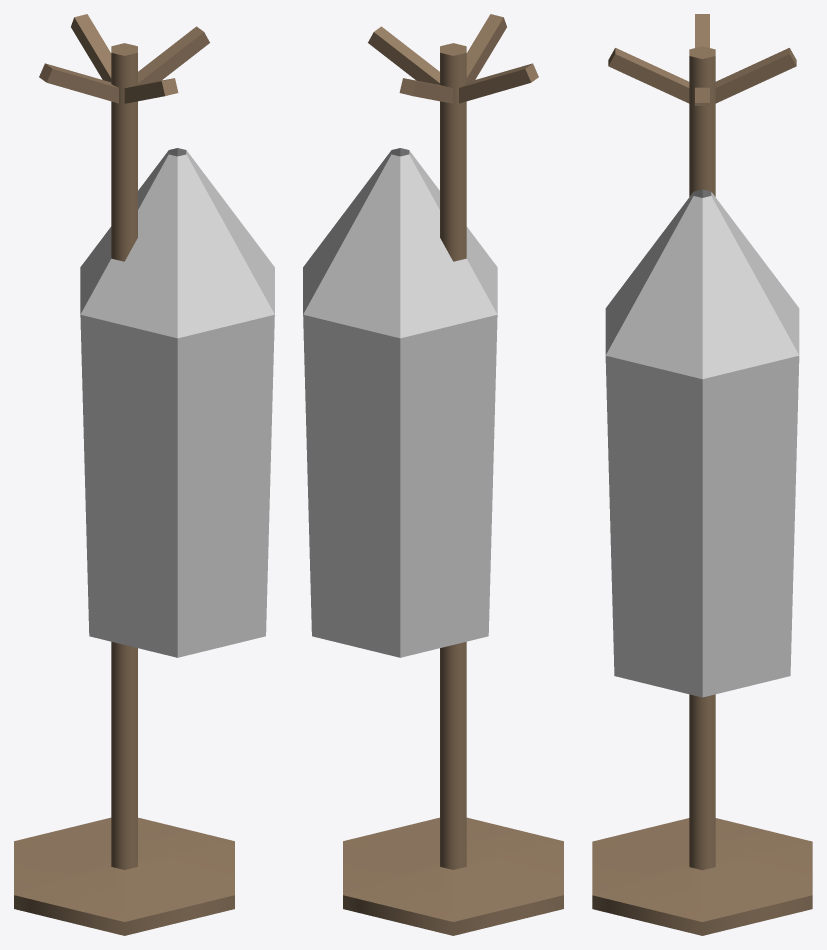
File: coat_rack.glb
3 views of the same model, side by side, from view 1: azimuth 30°, elevation 25°; view 2: azimuth 150°, elevation 25°; view 3: azimuth 270°, elevation 25° (orthographic).
Parts seen in each view (by area): view 1: Coat_rack; view 2: Coat_rack; view 3: Coat_rack.
Boxes of the visible parts, bbox=[...] form: Coat_rack: bbox=[14, 14, 274, 935]; Coat_rack: bbox=[303, 14, 563, 935]; Coat_rack: bbox=[592, 14, 812, 935].
Size of the model in its own units: 0.59 by 1.8 by 0.433.
